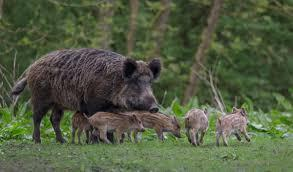wildboar: (10, 46, 165, 144), (87, 111, 146, 144), (215, 105, 253, 147), (137, 110, 182, 142), (183, 104, 210, 148)
